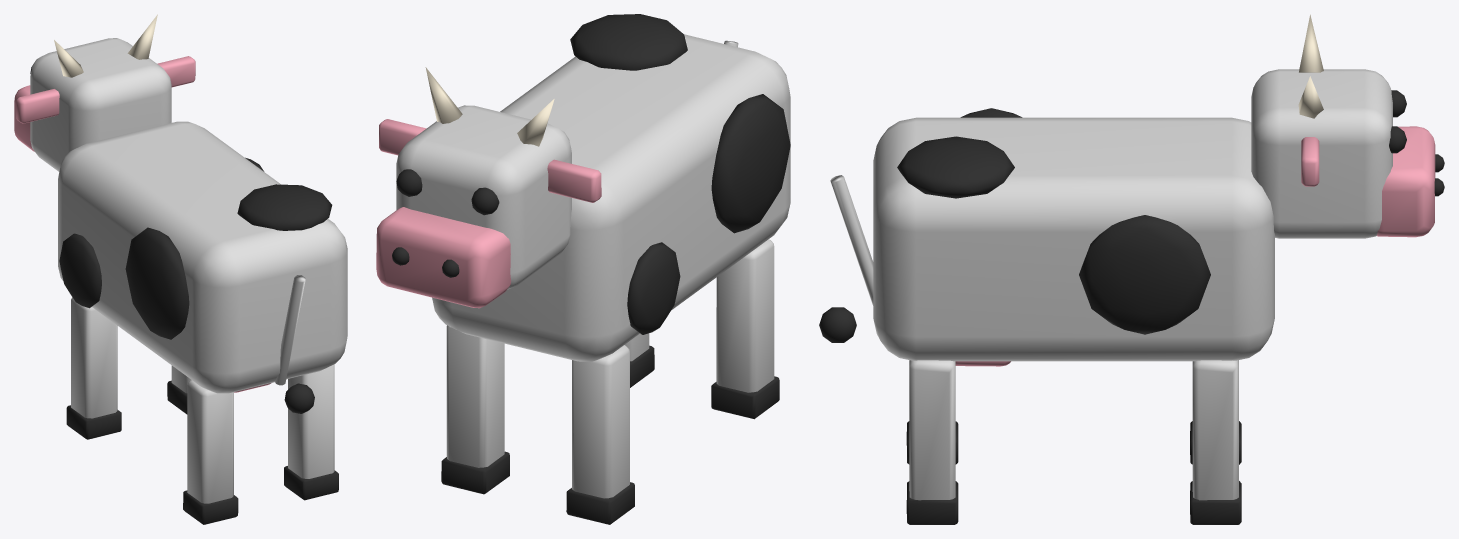
Rendered from cow_mobile.glb.
3 renders of one model, left to right at view 1: azimuth 30°, elevation 25°; view 2: azimuth 150°, elevation 25°; view 3: azimuth 270°, elevation 25°, orthographic. The views are drawn at different scales.
Parts seen in each view (by area): view 1: Cow; view 2: Cow; view 3: Cow.
Part boxes in pixels (x1,y1,x2,y2): Cow: (14, 14, 347, 524); Cow: (376, 14, 790, 524); Cow: (819, 14, 1444, 524).
Size of the model in its own units: 1.11 by 2.06 by 2.65.
